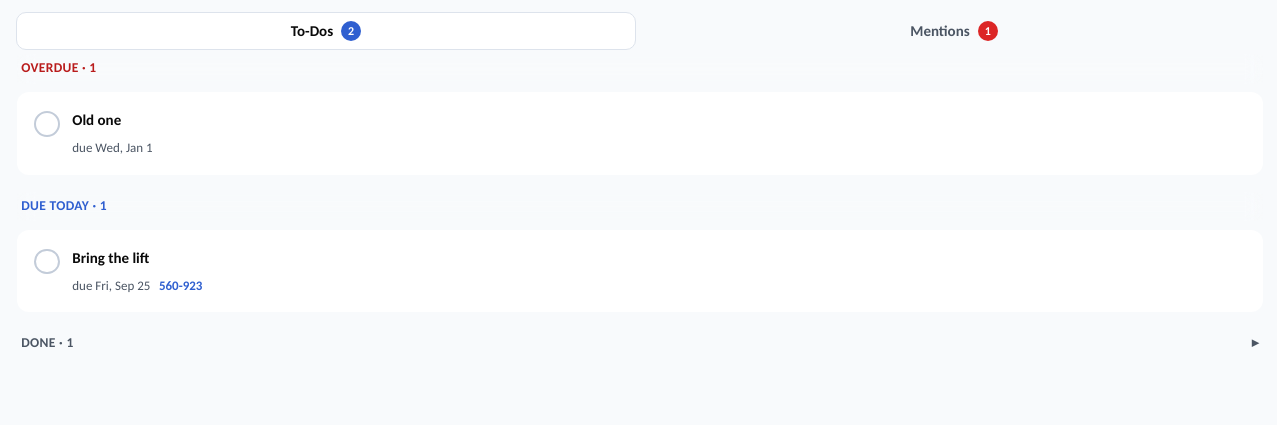
Scenario: TodosMobile › buckets to-dos by due date and hides done ones until asked
Expected: the text "Bring the lift" is shown, [72,249,149,267]
Expected: the heading "Due today · 1" is shown, [21,197,107,214]
Click the text "Done · 1": {"x": 48, "y": 344} [21,335,74,352]
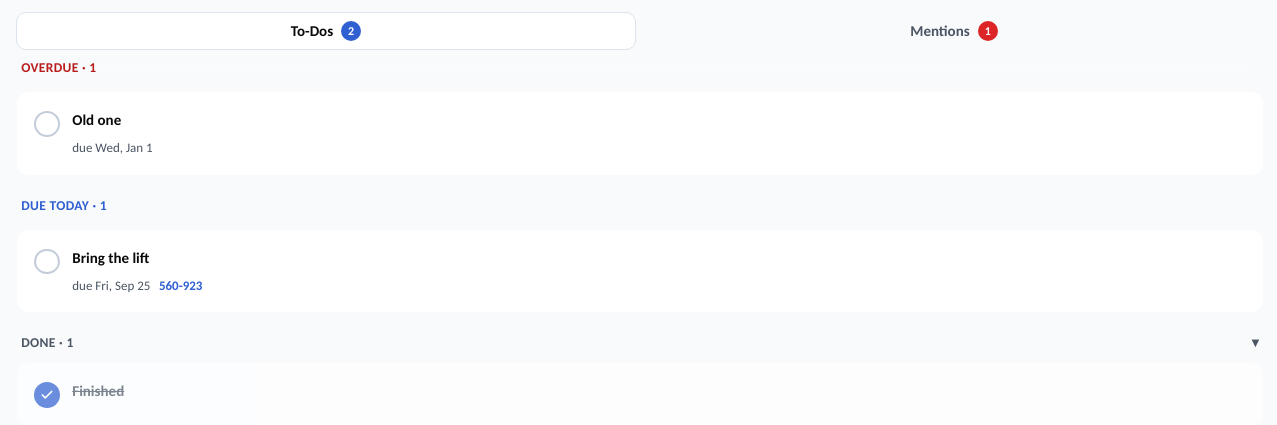
Now the text "Finished" is shown, box [72,382,124,400]
